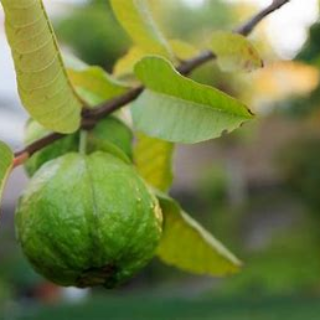oi: (15, 146, 174, 300)
